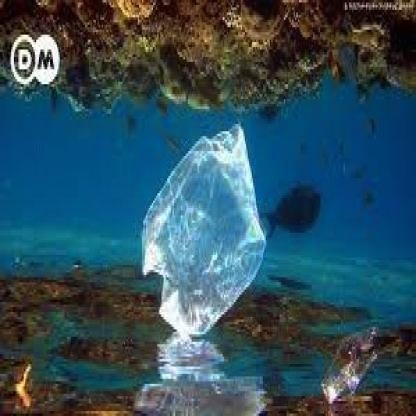pbag: (139, 124, 267, 339), (320, 327, 383, 406)
